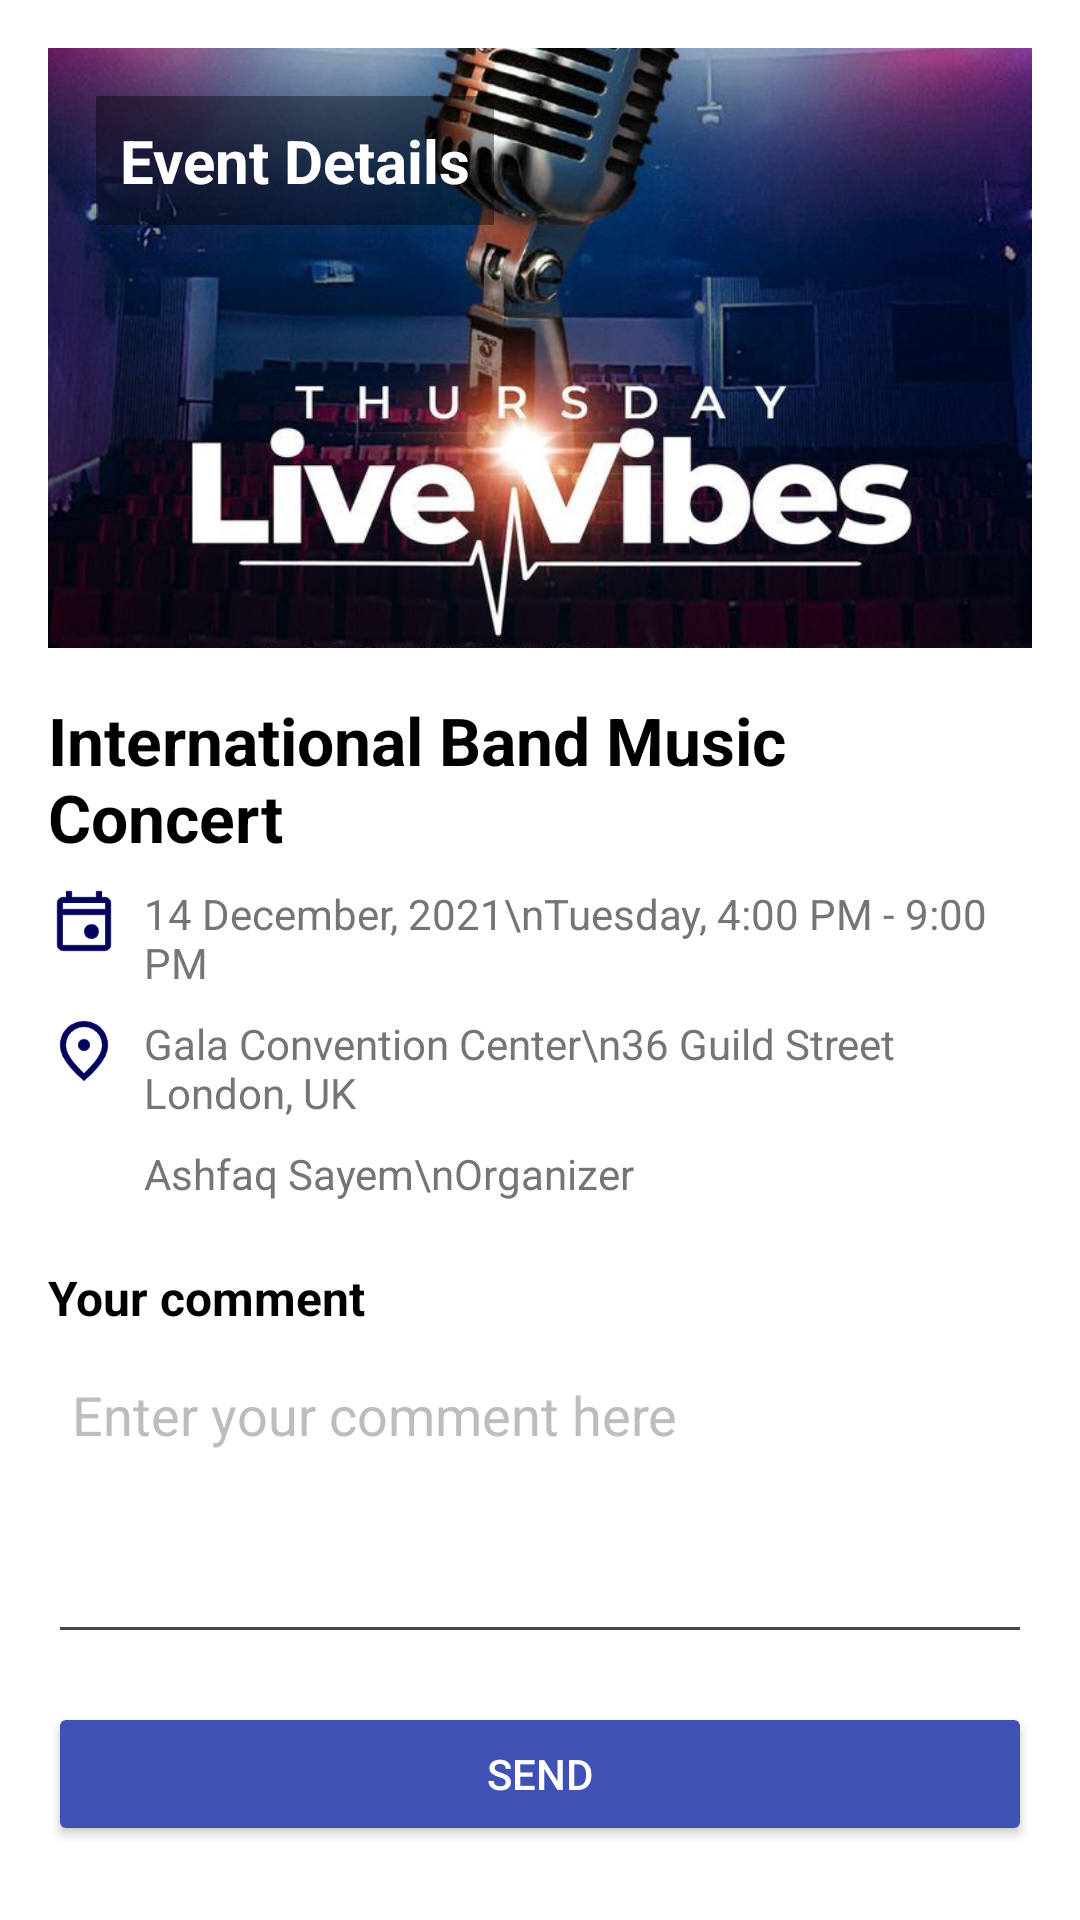

Point at icon controls on the screen. Image size 1080 x 1920, points as [x,y].
Date Icon: [84,921]
Location Icon: [84,1051]
